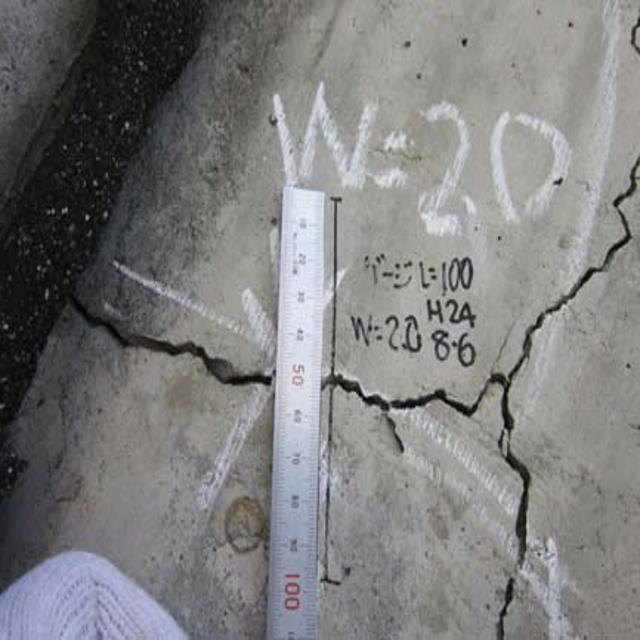crack: (70, 287, 274, 390), (330, 347, 554, 432), (533, 194, 634, 330), (490, 446, 547, 638)
